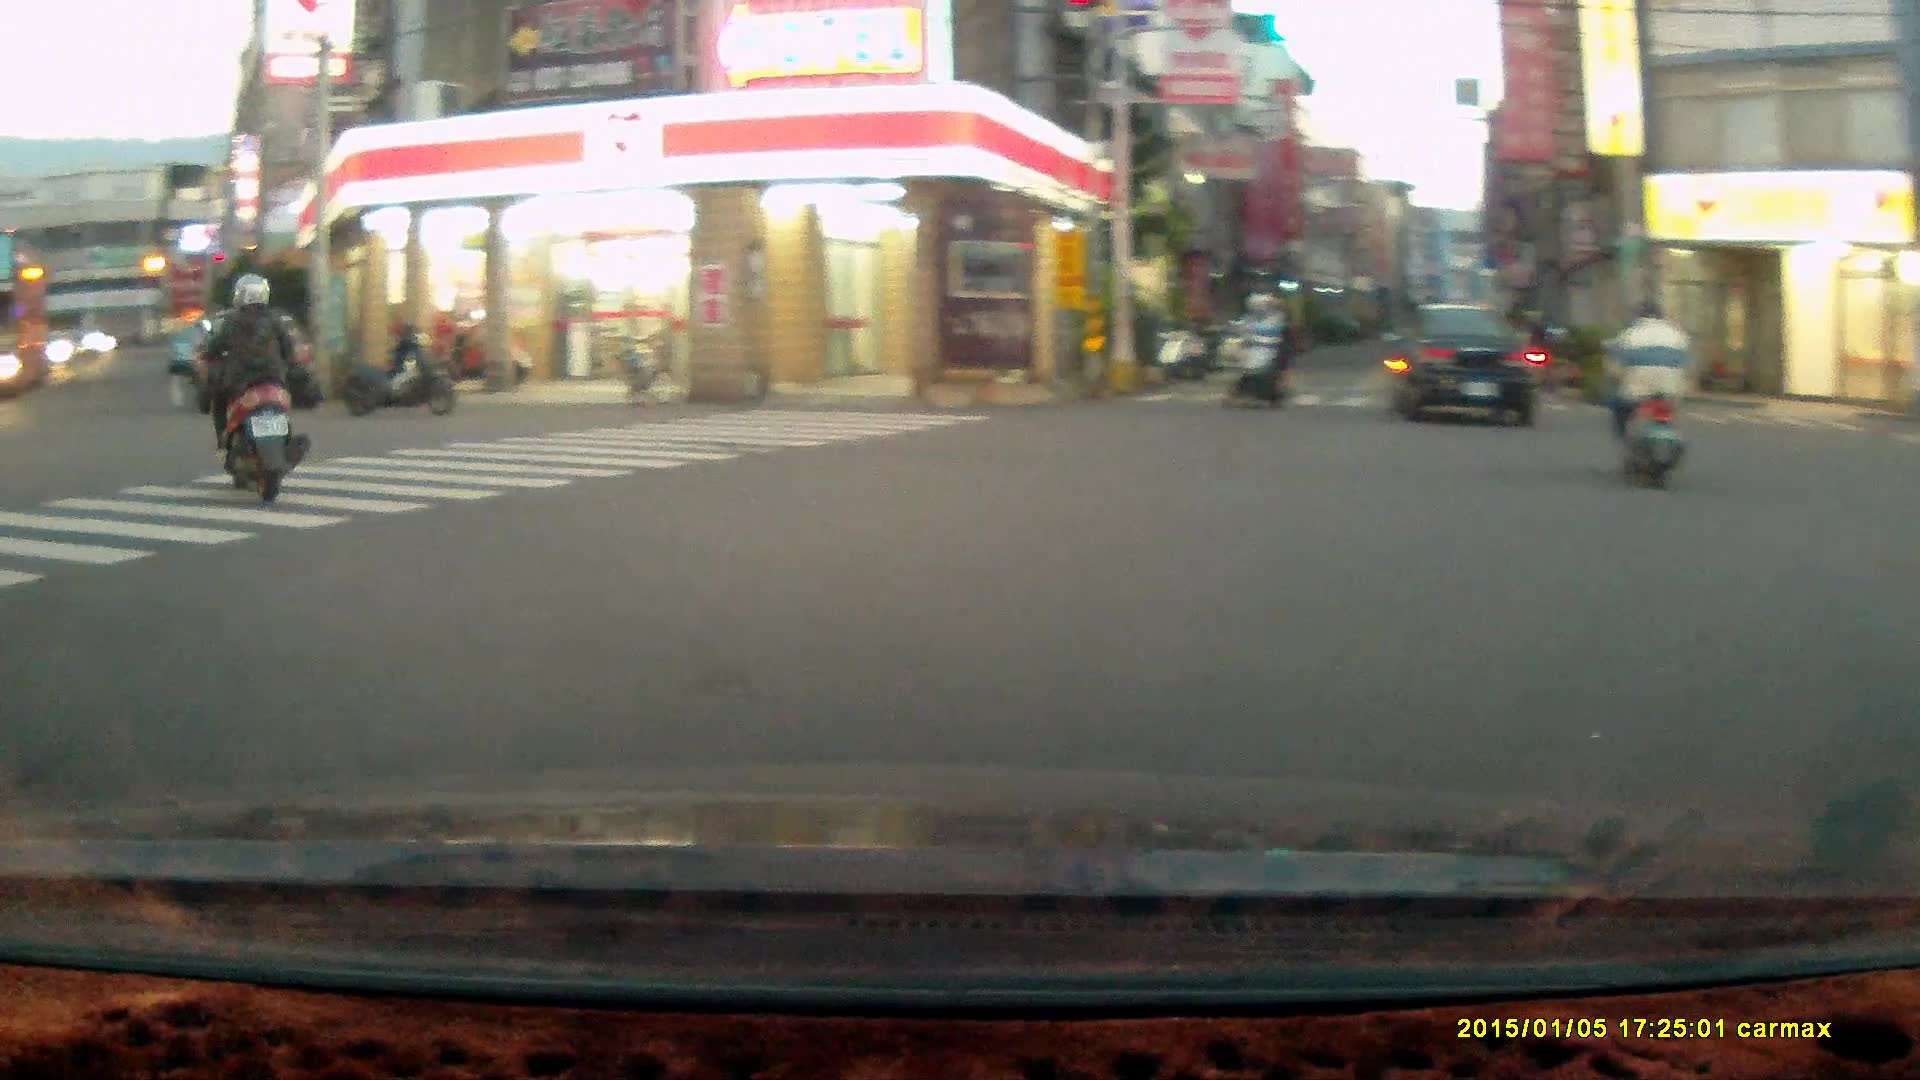rider: (199, 271, 310, 500), (1601, 292, 1696, 491), (1223, 287, 1292, 413)
vehicle: (1386, 301, 1545, 424), (189, 303, 322, 406)
